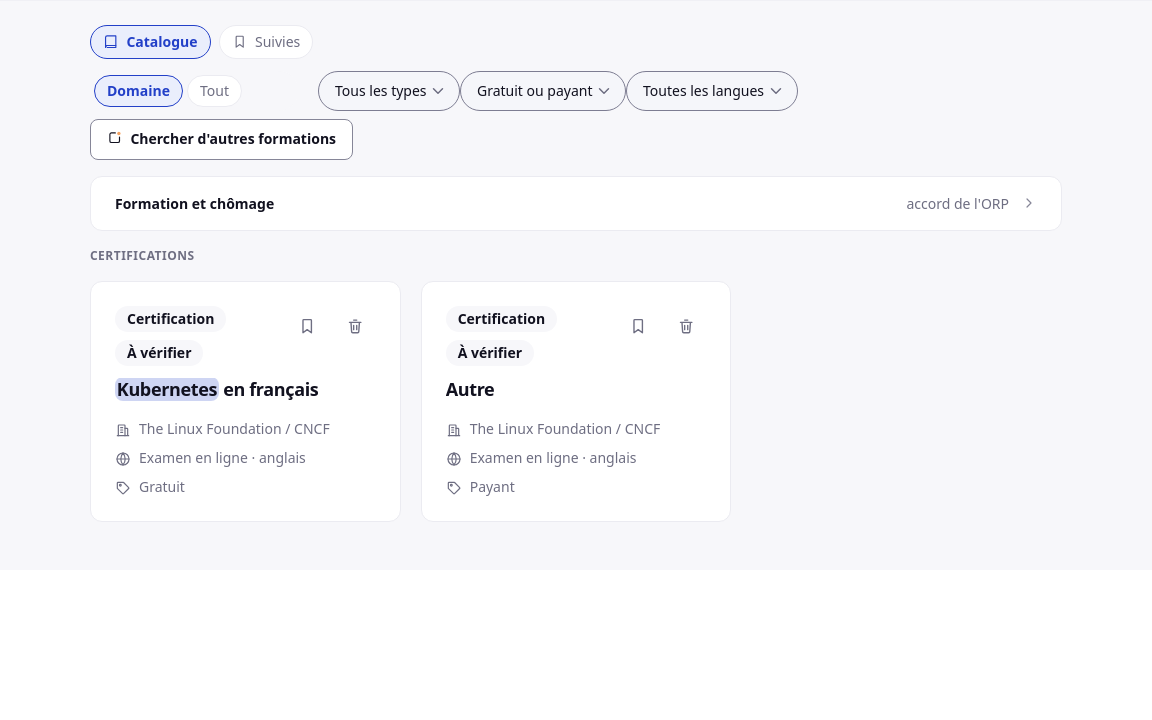
it: TrainingsView › suggestions de l'IA : recherche, garder, écarter
Step 1. Click the button with test id "suggest" → (222, 139), box [90, 119, 353, 160]
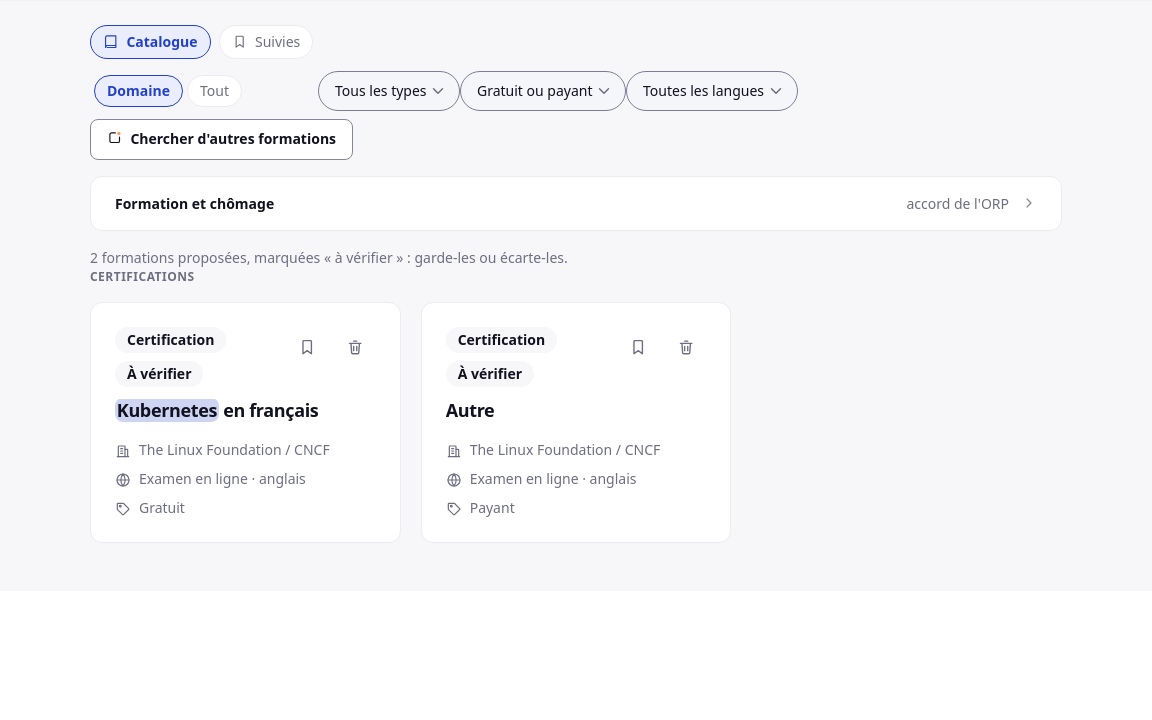
Expected: the number of elements with test id "unverified" is 2, [115, 361, 204, 387]; [446, 361, 534, 387]
Expected: the text "2 formations proposées" is shown, [90, 248, 568, 267]
Step 2. Click the 1st button with test id "keep" → (308, 347), box [288, 327, 328, 367]
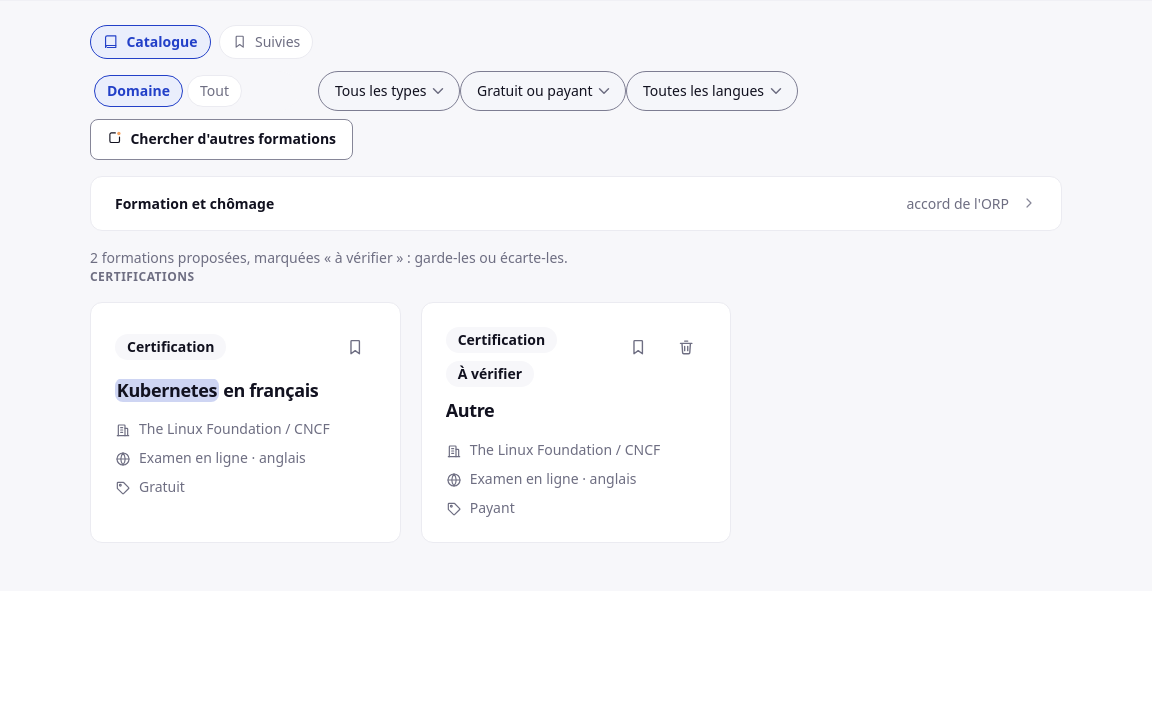
Step 3. Click the button with test id "dismiss" → (686, 347), box [666, 327, 706, 367]
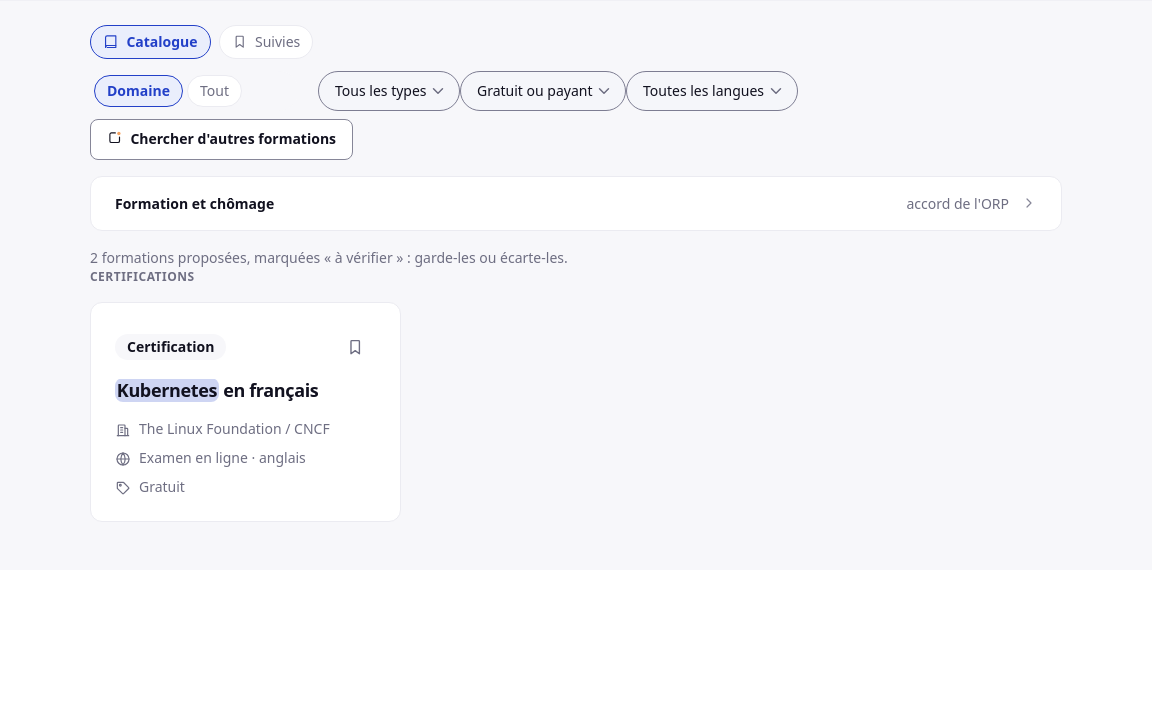
Expected: the number of list items with test id "training" is 1, [90, 302, 401, 522]
Expected: no elements with test id "unverified" are shown
